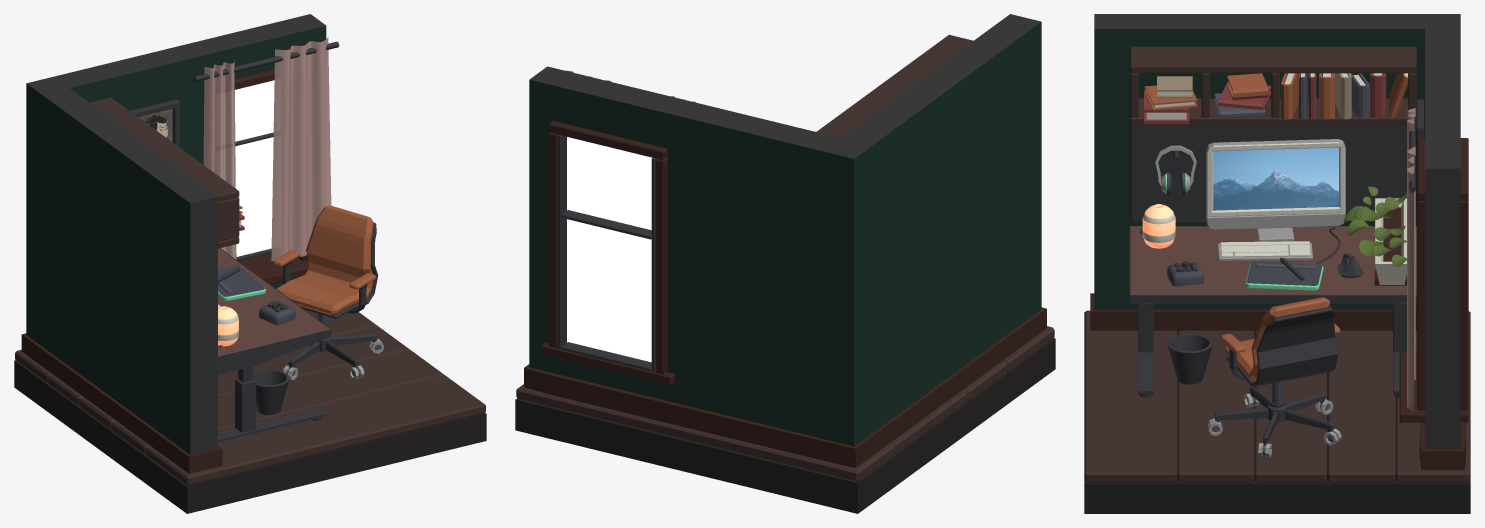
Rendered from room.glb.
3 renders of one model, left to right at view 1: azimuth 30°, elevation 25°; view 2: azimuth 150°, elevation 25°; view 3: azimuth 270°, elevation 25°, orthographic. The views are drawn at different scales.
Visible parts, largest first — view 1: Walls, Floor (planks), Floor, Curtain R, Chair, Table, window plane, Walls (baseboard), Shelf, Curtain L, Window, trash bucket (+5 smaller); view 2: Walls, Floor, window plane, Walls (baseboard), Window, Floor (planks), Window (inside), Shelf; view 3: Walls, Floor (planks), Table, IKEA Pegboard, Monoblock, Shelf, Floor, Chair, Walls (baseboard), Window, Pot with plants, Curtain R (+20 smaller).
Part boxes in pixels (<box>): Walls: <box>26,14,326,454</box>; Floor (planks): <box>15,310,485,485</box>; Floor: <box>14,360,486,513</box>; Curtain R: <box>271,37,331,260</box>; Chair: <box>273,205,384,379</box>; Table: <box>218,248,330,442</box>; window plane: <box>235,80,274,256</box>; Walls (baseboard): <box>21,333,222,473</box>; Shelf: <box>90,97,239,248</box>; Curtain L: <box>203,60,236,259</box>; Window: <box>234,69,308,284</box>; trash bucket: <box>252,369,289,414</box>; Walls: <box>529,14,1041,446</box>; Floor: <box>515,338,1055,513</box>; window plane: <box>567,137,652,362</box>; Walls (baseboard): <box>524,307,1046,468</box>; Window: <box>541,121,674,385</box>; Floor (planks): <box>516,326,1054,481</box>; Window (inside): <box>557,135,655,372</box>; Shelf: <box>816,34,973,137</box>; Walls: <box>1094,14,1460,449</box>; Floor (planks): <box>1084,310,1470,482</box>; Table: <box>1129,226,1417,397</box>; IKEA Pegboard: <box>1130,124,1406,222</box>; Monoblock: <box>1206,139,1345,241</box>; Shelf: <box>1130,46,1416,124</box>; Floor: <box>1084,481,1470,513</box>; Chair: <box>1207,297,1341,457</box>; Walls (baseboard): <box>1090,293,1465,470</box>; Window: <box>1399,138,1468,422</box>; Pot with plants: <box>1343,186,1406,285</box>; Curtain R: <box>1407,146,1415,411</box>.
Bounding box in the file's own units: 3.5 × 3.41 × 3.5.
21 materials, 2 textured.
